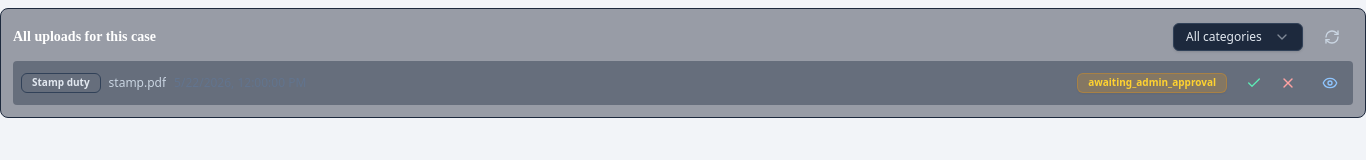
Test: CaseMergedReceiptsPanel — 409 already-reviewed refresh › re-fetches /api/cases/:id/all-receipts after a 409 from stamp-duty approve
Click the button with test id "btn-merged-approve-stamp_duty-77": click(1254, 83) x1=1239 y1=67 x2=1269 y2=99
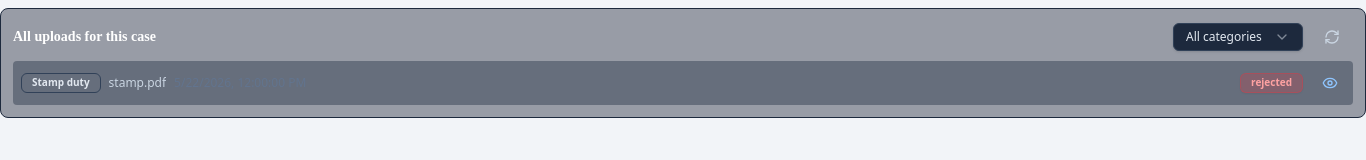
Check: the button with test id "btn-merged-approve-stamp_duty-77" is gone
